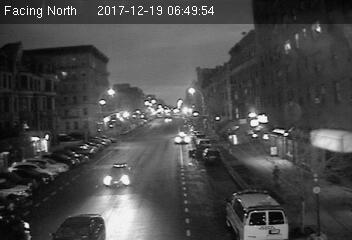car: (102, 161, 133, 187), (173, 132, 192, 145)
police: (222, 185, 293, 238)
